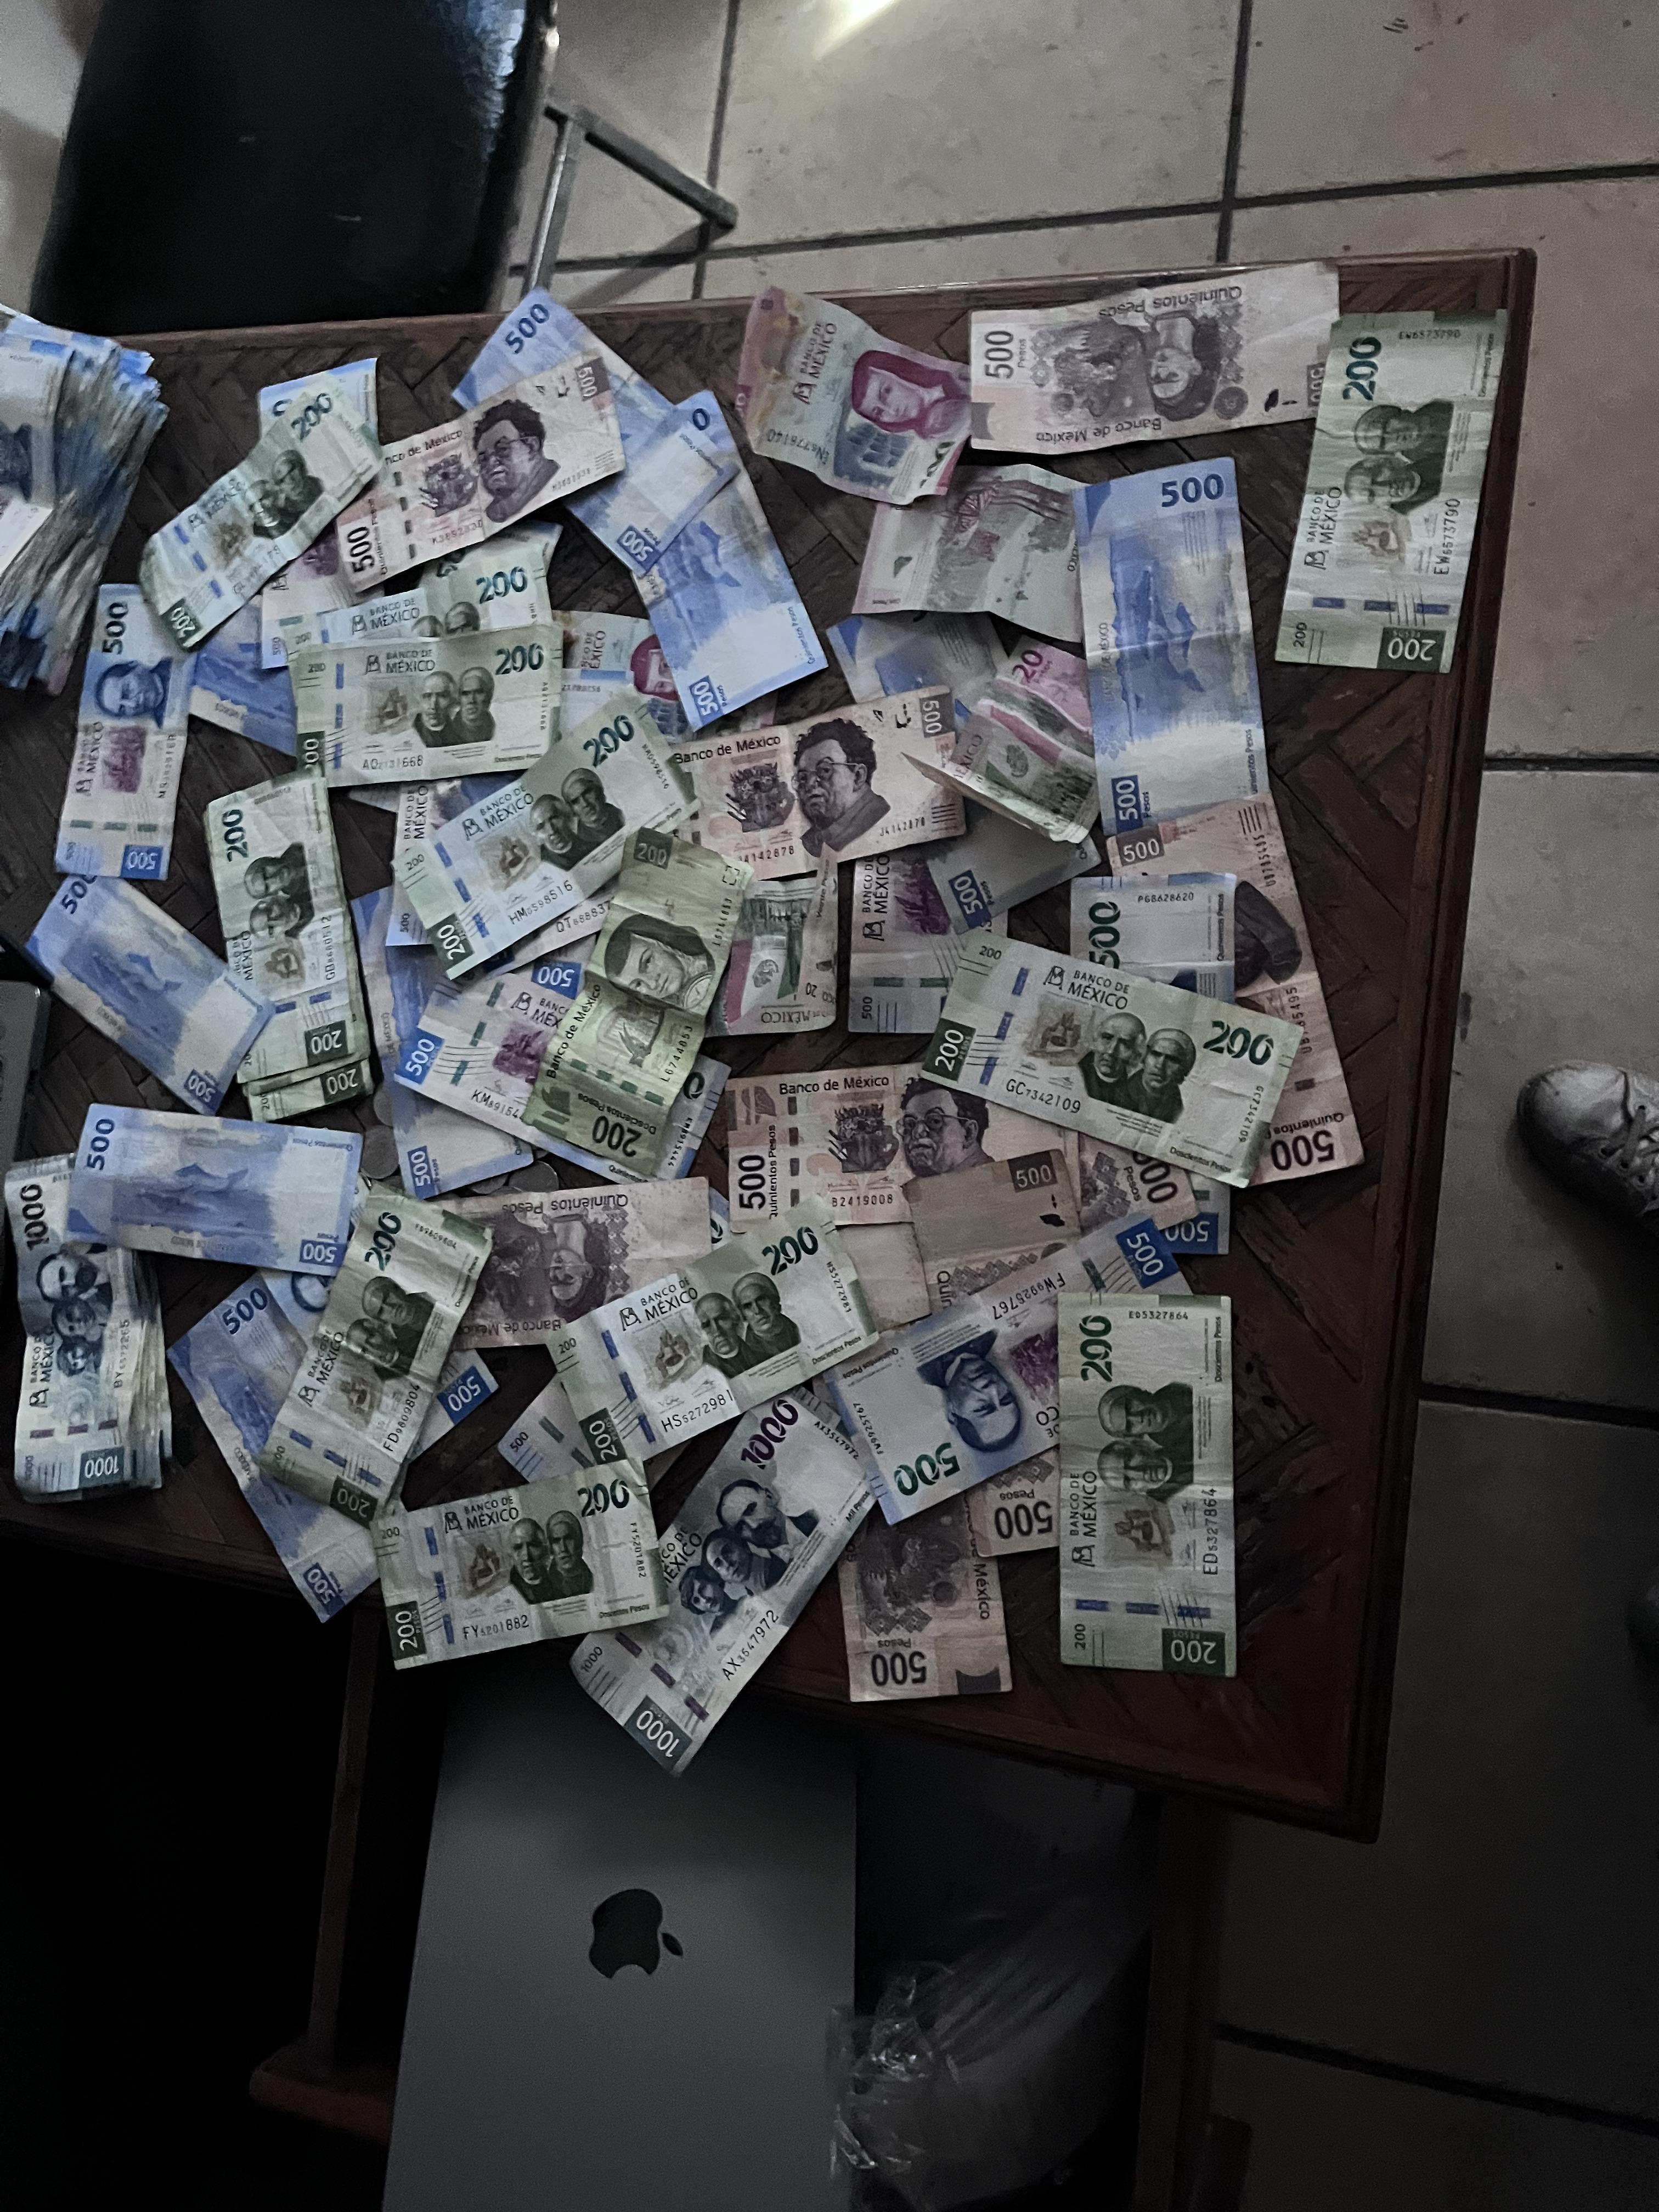100: (708, 266, 995, 519)
1000: (565, 1385, 897, 1749), (0, 1158, 166, 1484)
20: (911, 618, 1169, 853), (641, 846, 840, 1043)
200: (911, 921, 1305, 1202), (530, 1195, 887, 1468), (1039, 1291, 1272, 1696), (378, 691, 716, 965), (1279, 301, 1504, 686), (270, 1169, 490, 1526), (362, 1447, 683, 1691), (558, 819, 767, 1163), (134, 388, 406, 653), (206, 789, 385, 1139), (282, 641, 570, 779)
500: (1094, 794, 1380, 1198), (957, 280, 1358, 455), (307, 371, 647, 564), (708, 1059, 1087, 1226), (399, 1165, 725, 1352), (645, 718, 997, 881), (814, 1449, 1018, 1726), (962, 1406, 1082, 1566)
500 nuevo: (760, 1209, 1216, 1515), (146, 1270, 437, 1637), (436, 275, 753, 578), (573, 373, 833, 730), (1060, 456, 1276, 846), (16, 862, 267, 1125), (335, 883, 535, 1207), (58, 1101, 350, 1284), (58, 564, 195, 878)
